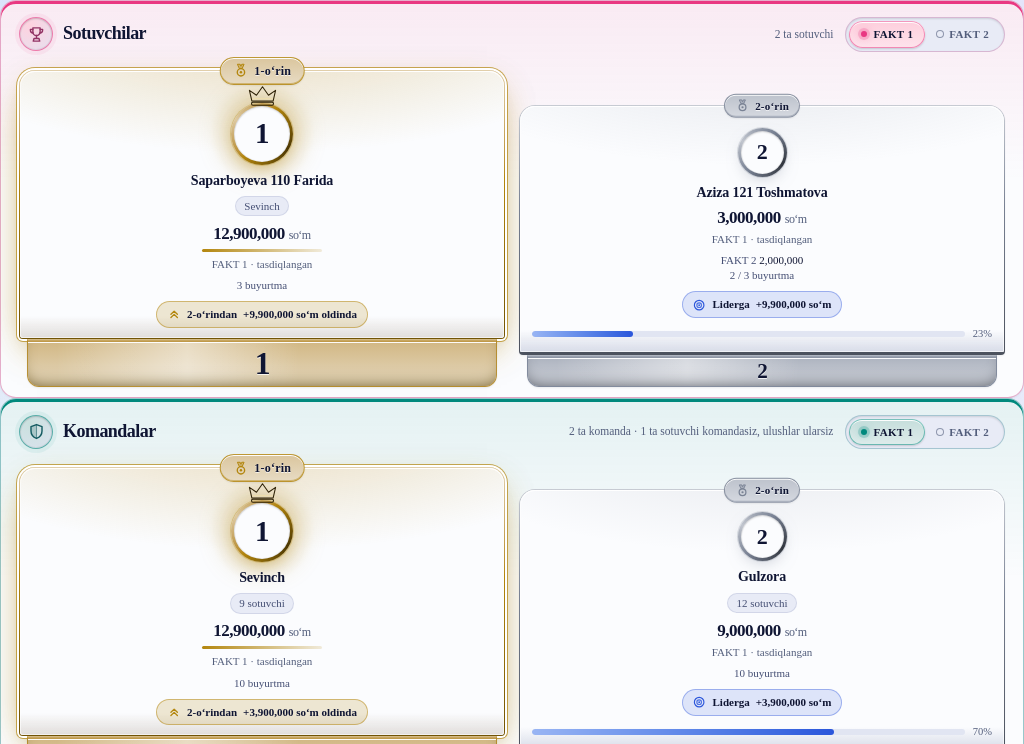
Test case: reading the same board on the other fact › opens on FAKT 1 in both columns whatever has been delivered
The width and height of the screenshot is (1024, 744).
Expected: the text "Podium hali boʻsh" is not shown
Click the button "FAKT 2" in the row of "2 ta sotuvchi". click: (963, 34)
box: [925, 21, 1001, 48]
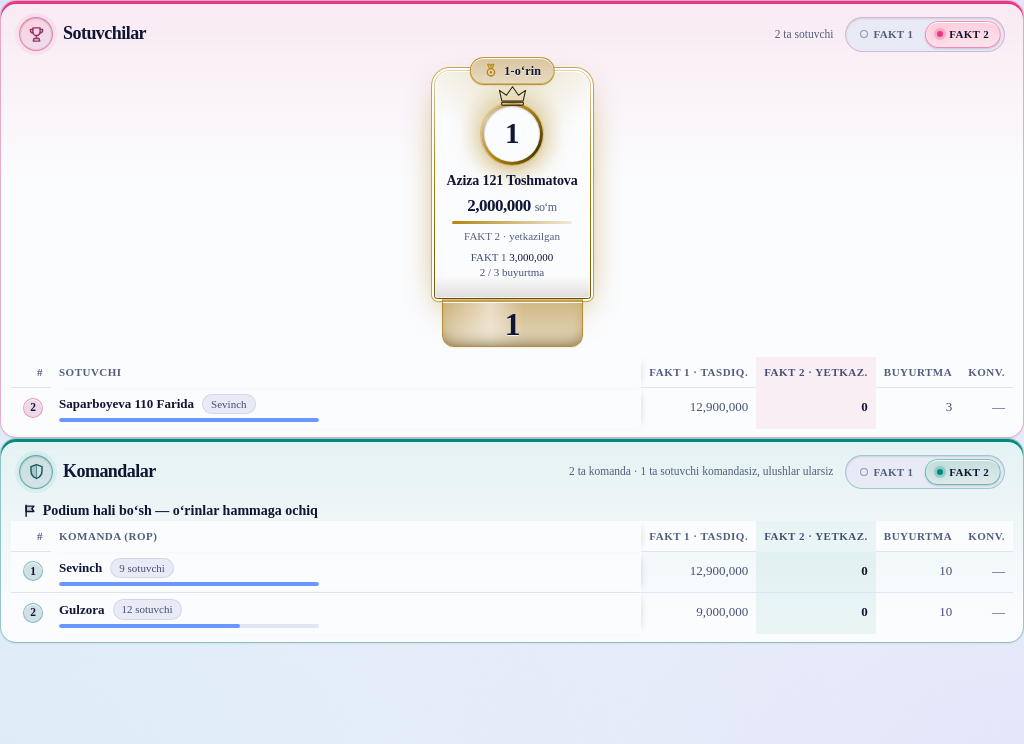
Now the text "Podium hali boʻsh — oʻrinlar hammaga ochiq" is shown, box [22, 503, 318, 519]
